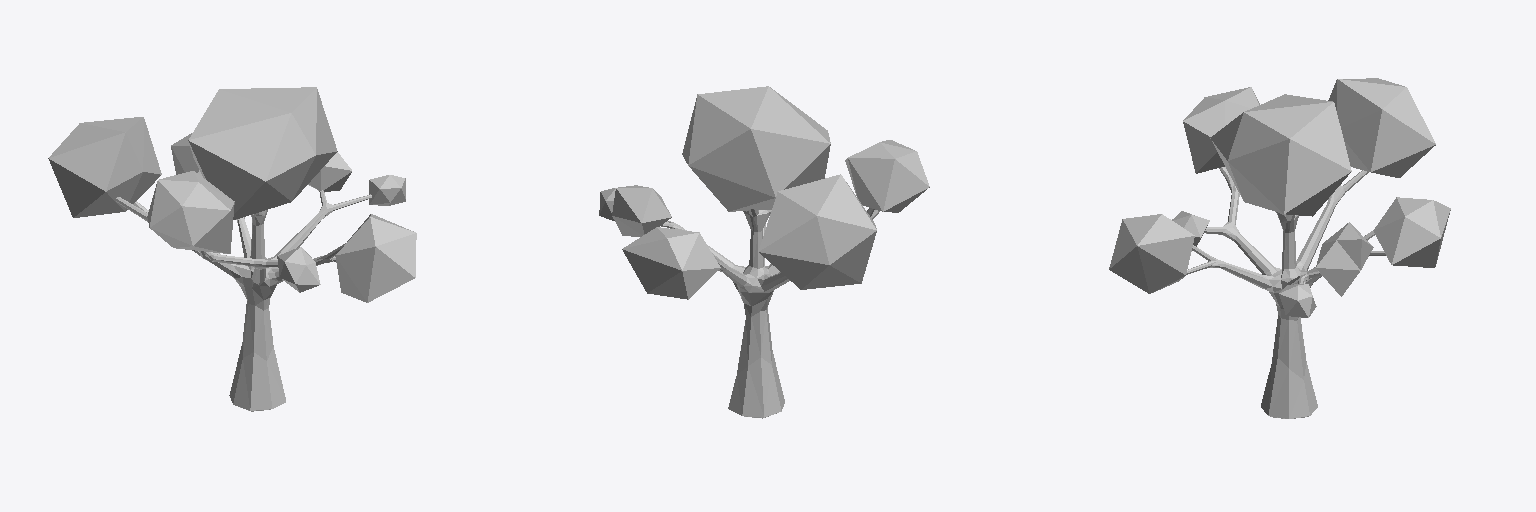
The model's file is treeSummer.obj.
The picture shows the model from 3 angles: view 1: azimuth 30°, elevation 25°; view 2: azimuth 150°, elevation 25°; view 3: azimuth 270°, elevation 25°; orthographic projection.
Parts seen in each view (by area): view 1: Cube_Cube.001; view 2: Cube_Cube.001; view 3: Cube_Cube.001.
Part boxes in pixels (left/top/right/bottom): Cube_Cube.001: left=48, top=87, right=416, bottom=411; Cube_Cube.001: left=599, top=86, right=929, bottom=418; Cube_Cube.001: left=1109, top=78, right=1450, bottom=418.
Size of the model in its own units: 22.79 by 20.92 by 21.31.